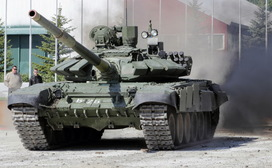t72: (10, 11, 224, 150)
